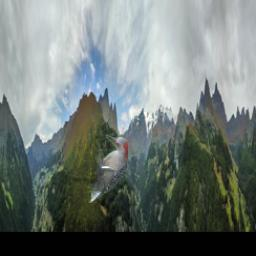Woodpecker: (88, 135, 128, 204)
